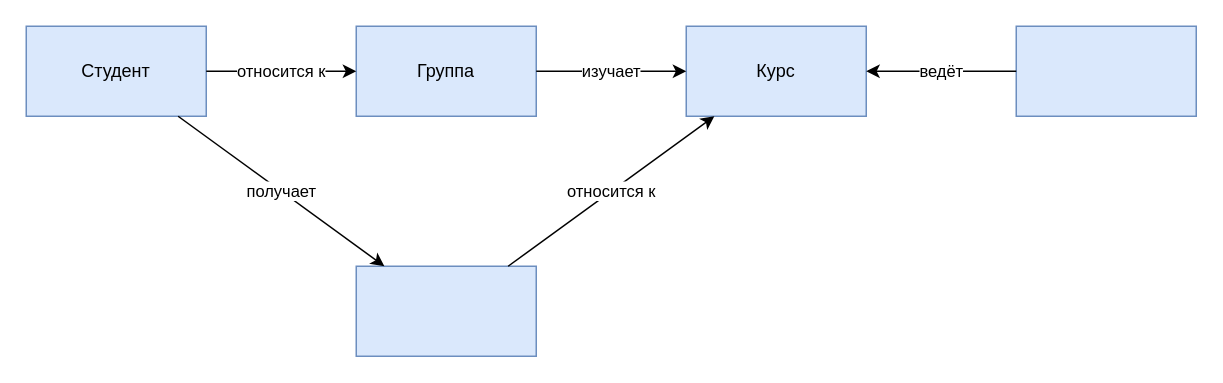
Some shapes in this 1223 by 383 pixel diagram are drawn without their labels. Here are the shapes that lost their labels. From the top down, the centre of each, then its label:
At point (1105, 70): "Преподаватель".
At point (445, 310): "Оценка".
